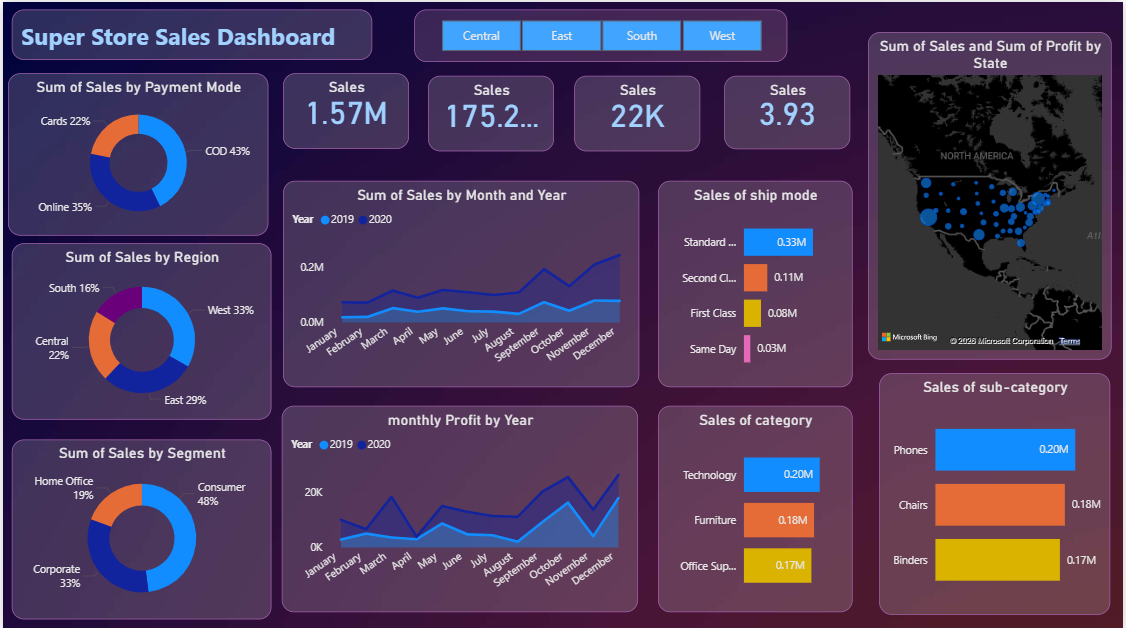

What the dashboard file says about the page in this screenshot:
{"tool":"powerbi","page":{"name":"Page 1","canvas":[1280,720],"ordinal":0},"visuals":[{"type":"clusteredBarChart","title":"Sales of ship mode","fields":{"Category":["SuperStore_Sales_Dataset.Ship Mode"],"Y":["Sum(SuperStore_Sales_Dataset.Sales)"]},"box":[749.2,204.5,222.3,236],"z":0},{"type":"clusteredBarChart","title":"Sales of sub-category","fields":{"Category":["SuperStore_Sales_Dataset.Sub-Category"],"Y":["Sum(SuperStore_Sales_Dataset.Sales)"]},"box":[1001.4,424.3,264.3,275.7],"z":1000},{"type":"stackedAreaChart","fields":{"Y":["Sum(SuperStore_Sales_Dataset.Sales)"],"Category":["SuperStore_Sales_Dataset.Order Date.Variation.Date Hierarchy.Month","SuperStore_Sales_Dataset.Order Date.Variation.Date Hierarchy.Day"],"Series":["SuperStore_Sales_Dataset.Order Date.Variation.Date Hierarchy.Year"]},"box":[320,204.3,407.1,235.7],"z":2000},{"type":"stackedAreaChart","title":"monthly Profit by Year","fields":{"Category":["SuperStore_Sales_Dataset.Order Date.Variation.Date Hierarchy.Month","SuperStore_Sales_Dataset.Order Date.Variation.Date Hierarchy.Day"],"Series":["SuperStore_Sales_Dataset.Order Date.Variation.Date Hierarchy.Year"],"Y":["Sum(SuperStore_Sales_Dataset.Profit)"]},"box":[318.6,461.4,407.1,235.7],"z":3000},{"type":"donutChart","fields":{"Category":["SuperStore_Sales_Dataset.Segment"],"Y":["Sum(SuperStore_Sales_Dataset.Sales)"]},"box":[10,500,297.1,205.7],"z":4000},{"type":"donutChart","fields":{"Category":["SuperStore_Sales_Dataset.Region"],"Y":["Sum(SuperStore_Sales_Dataset.Sales)"]},"box":[10,275.7,297.1,201.4],"z":5000},{"type":"donutChart","fields":{"Category":["SuperStore_Sales_Dataset.Payment Mode"],"Y":["Sum(SuperStore_Sales_Dataset.Sales)"]},"box":[5.5,81,297.8,185.2],"z":6000},{"type":"clusteredBarChart","title":"Sales of category","fields":{"Y":["Sum(SuperStore_Sales_Dataset.Sales)"],"Category":["SuperStore_Sales_Dataset.Category"]},"box":[749.2,461.1,222.3,236],"z":7000},{"type":"map","fields":{"Category":["SuperStore_Sales_Dataset.State"],"Size":["Sum(SuperStore_Sales_Dataset.Sales)"]},"box":[988,34.3,278.6,374.6],"z":8000},{"type":"slicer","fields":{"Values":["SuperStore_Sales_Dataset.Region"]},"box":[470.7,8.2,426.8,60.4],"z":9000},{"type":"textbox","box":[9.6,8.2,411.7,57.6],"z":10000},{"type":"card","title":"Sales","fields":{"Values":["Sum(SuperStore_Sales_Dataset.Sales)"]},"box":[319.7,81,144.1,86.4],"z":11000},{"type":"card","title":"Sales","fields":{"Values":["Sum(SuperStore_Sales_Dataset.Profit)"]},"box":[485.8,83.7,144.1,86.4],"z":12000},{"type":"card","title":"Sales","fields":{"Values":["Sum(SuperStore_Sales_Dataset.Quantity)"]},"box":[653.2,83.7,144.1,86.4],"z":13000},{"type":"card","title":"Sales","fields":{"Values":["Avg(SuperStore_Sales_Dataset.AvgDelivery)"]},"box":[824.7,83.7,144.1,83.7],"z":14000}]}

Visuals, with their boxes in screenshot pixels (x1, y1, x2, y2), scaled from the page's 1280x720 canvas onto the 1126x628 screenshot:
"Sales of ship mode" clusteredBarChart: region(659, 178, 855, 384)
"Sales of sub-category" clusteredBarChart: region(881, 370, 1113, 611)
stackedAreaChart - Sum(SuperStore_Sales_Dataset.Sales) x SuperStore_Sales_Dataset.Order Date.Variation.Date Hierarchy.Month: region(282, 178, 640, 384)
"monthly Profit by Year" stackedAreaChart: region(280, 402, 638, 608)
donutChart - SuperStore_Sales_Dataset.Segment x Sum(SuperStore_Sales_Dataset.Sales): region(9, 436, 270, 616)
donutChart - SuperStore_Sales_Dataset.Region x Sum(SuperStore_Sales_Dataset.Sales): region(9, 240, 270, 416)
donutChart - SuperStore_Sales_Dataset.Payment Mode x Sum(SuperStore_Sales_Dataset.Sales): region(5, 71, 267, 232)
"Sales of category" clusteredBarChart: region(659, 402, 855, 608)
map - SuperStore_Sales_Dataset.State x Sum(SuperStore_Sales_Dataset.Sales): region(869, 30, 1114, 357)
slicer - SuperStore_Sales_Dataset.Region: region(414, 7, 790, 60)
textbox: region(8, 7, 371, 57)
"Sales" card: region(281, 71, 408, 146)
"Sales" card: region(427, 73, 554, 148)
"Sales" card: region(575, 73, 701, 148)
"Sales" card: region(725, 73, 852, 146)
